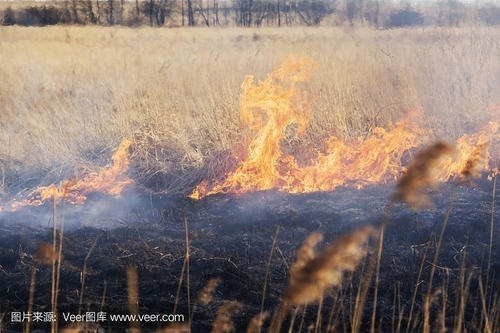fire: (0, 136, 137, 214)
